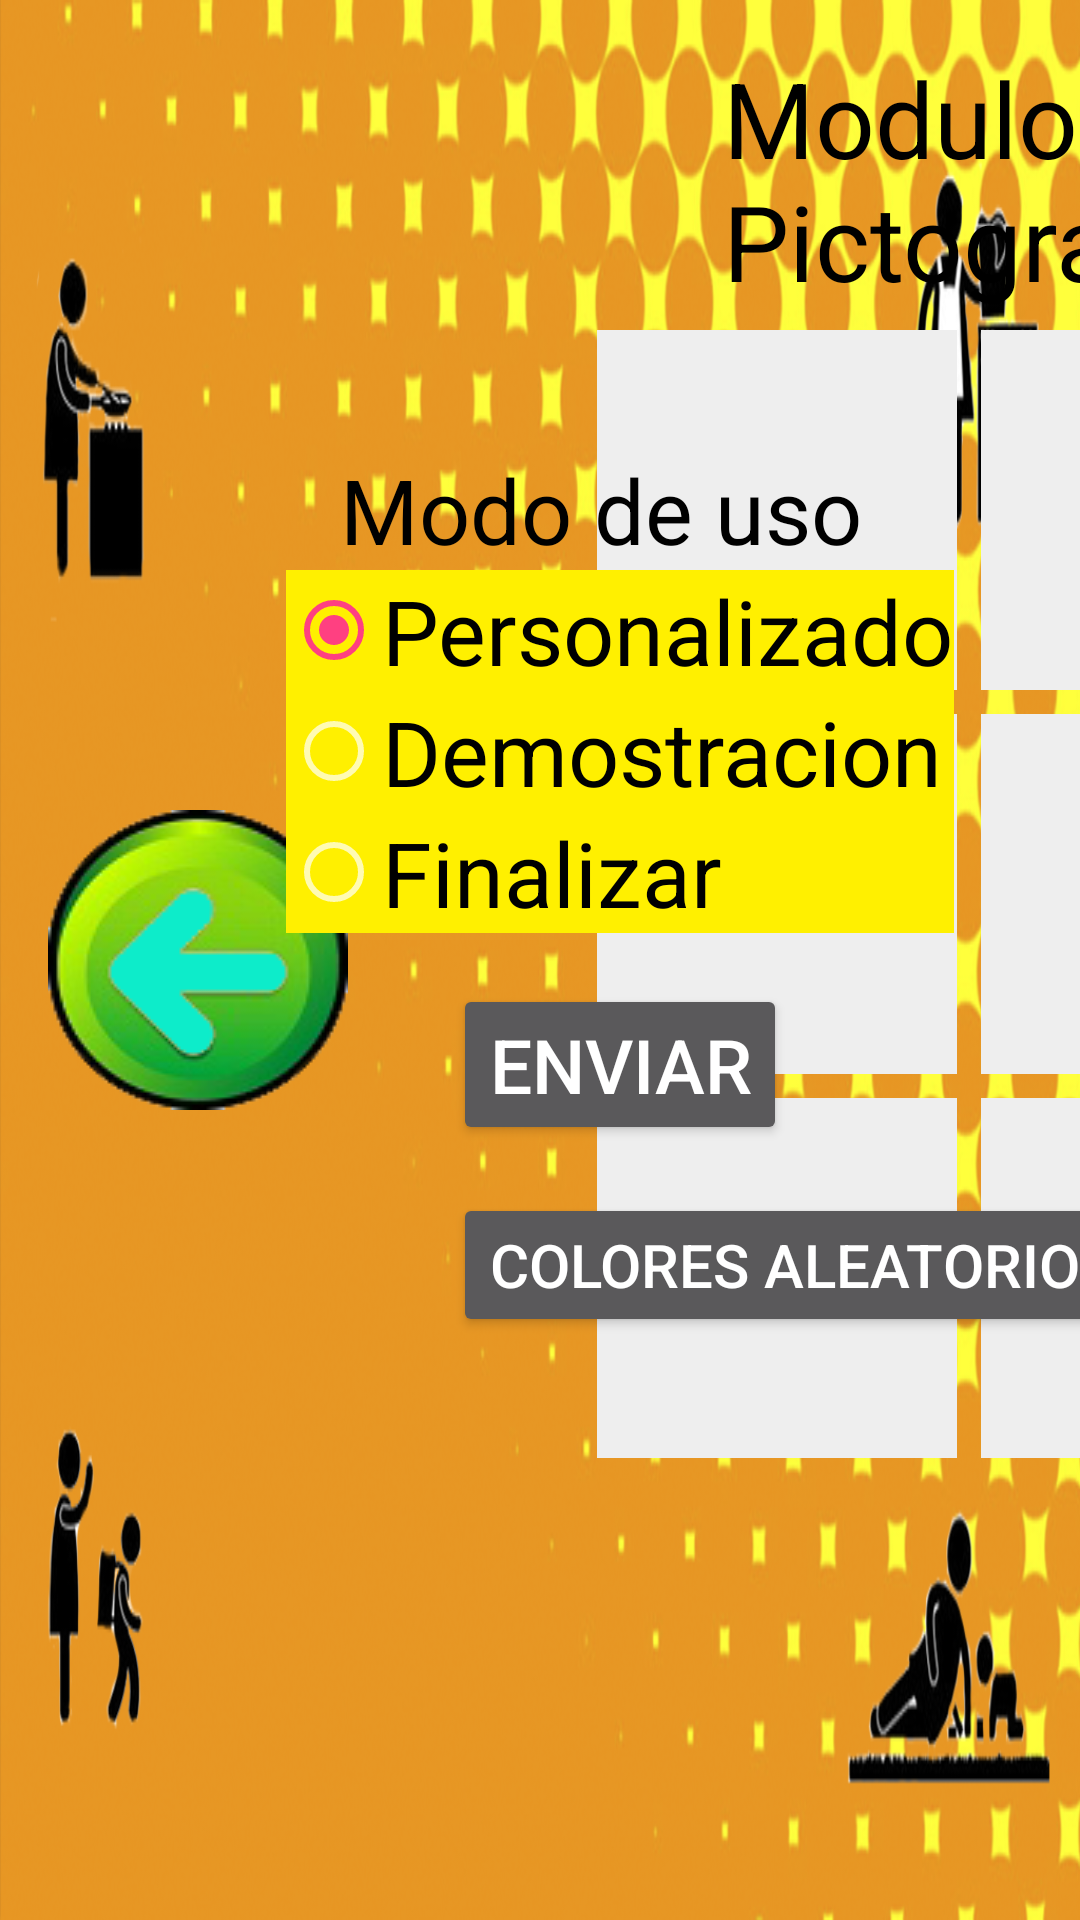

Icon click points for this 1080×1920 phone screenshot, format (x,y):
back: (198,960)
